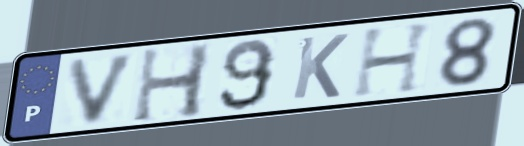8: (436, 15, 500, 89)
9: (216, 37, 277, 114)
H: (129, 41, 216, 126), (349, 19, 438, 100)
K: (288, 31, 352, 102)
V: (65, 49, 143, 127)
